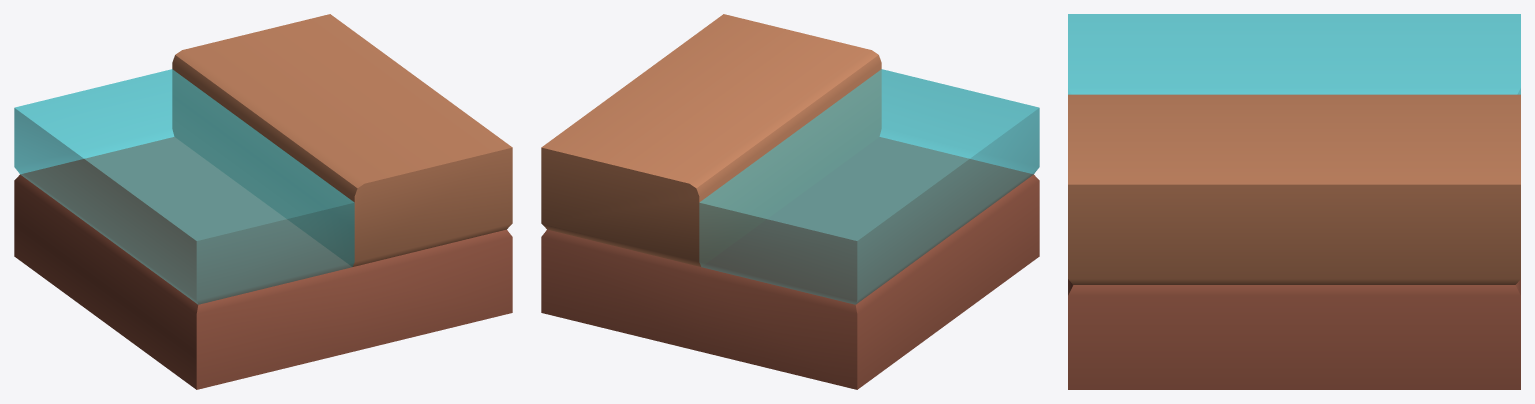
The model's file is square_rock_waterStraight.fbx.
3 renders of one model, left to right at view 1: azimuth 30°, elevation 25°; view 2: azimuth 150°, elevation 25°; view 3: azimuth 270°, elevation 25°, orthographic. The views are drawn at different scales.
Visible parts, largest first — view 1: square_rock_waterStraight; view 2: square_rock_waterStraight; view 3: square_rock_waterStraight.
Part boxes in pixels (<box>): square_rock_waterStraight: <box>14,14,512,389</box>; square_rock_waterStraight: <box>541,14,1039,389</box>; square_rock_waterStraight: <box>1068,14,1520,389</box>.
Bounding box in the file's own units: 2 × 1 × 2.
